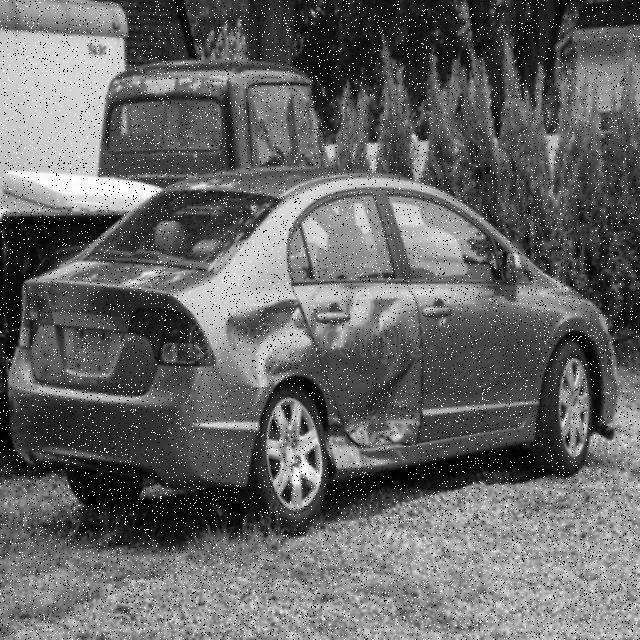doorouter-dent: (307, 284, 422, 453)
quaterpanel-dent: (202, 284, 304, 433)
